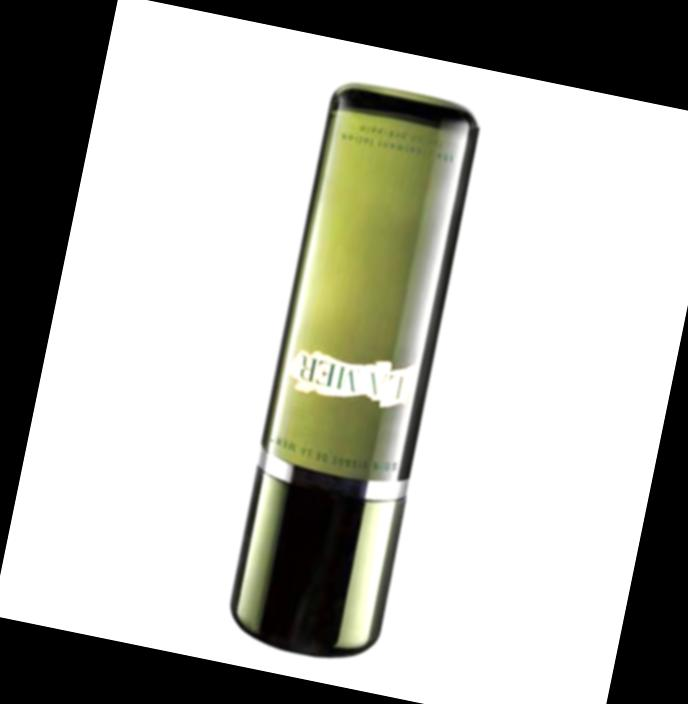cosmetic: (214, 79, 484, 661)
